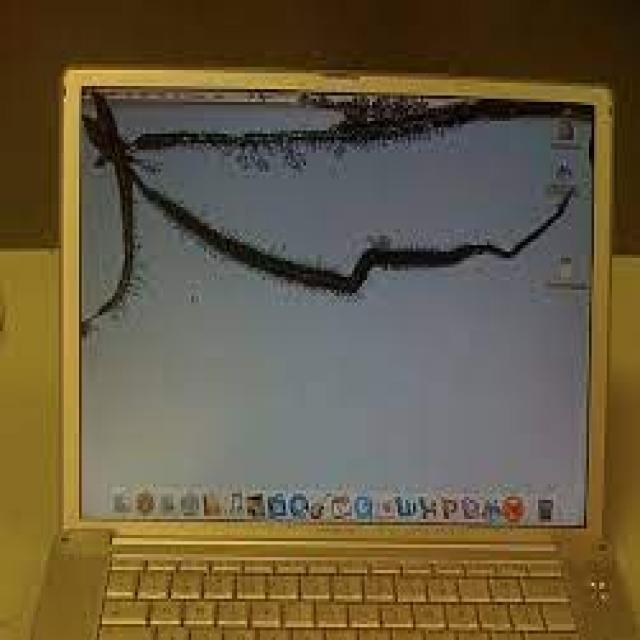Screen cracks: (76, 80, 607, 364)
